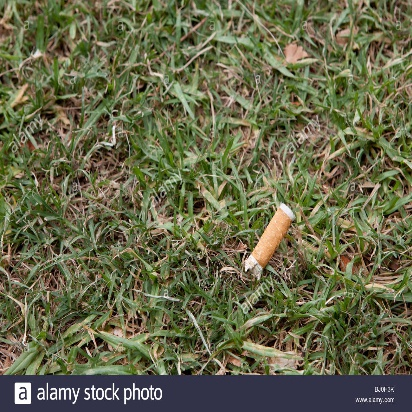cigarette: (237, 202, 294, 275)
